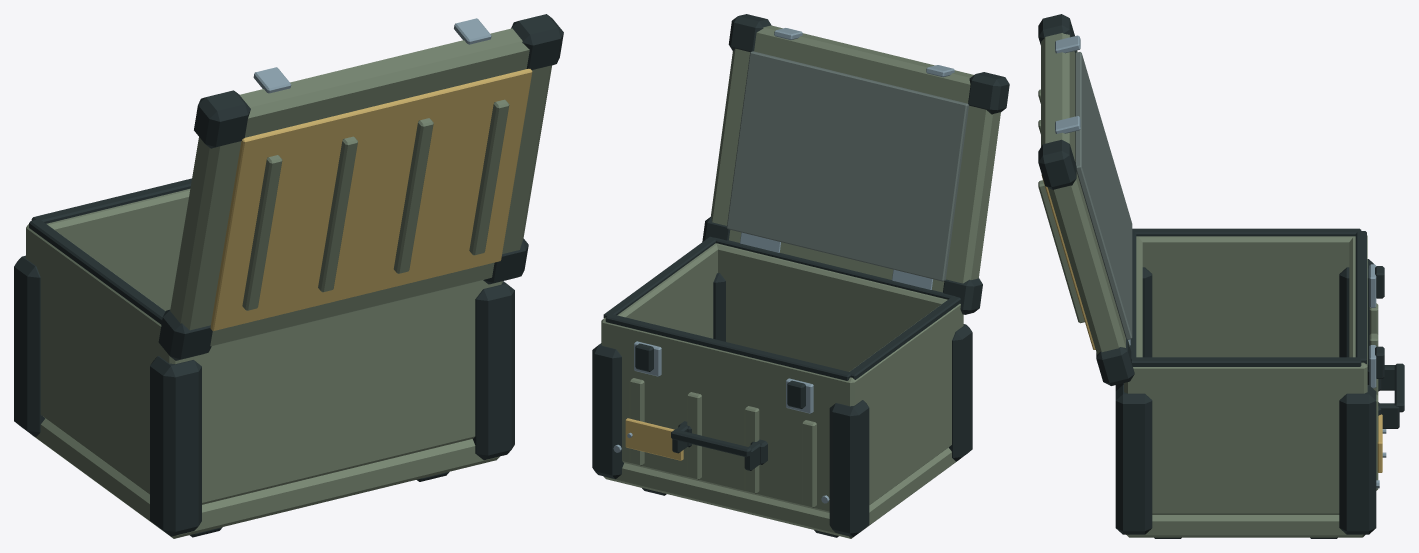
The model's file is field_supply_crate_opened.glb.
The picture shows the model from 3 angles, left to right: view 1: azimuth 30°, elevation 25°; view 2: azimuth 150°, elevation 25°; view 3: azimuth 270°, elevation 25°; orthographic projection. The views are drawn at different scales.
Visible parts, largest first — view 1: moving_lid_inset, body_back_wall, moving_lid_shell, body_left_wall, corner_guard (×3), body_floor, moving_lid_rib (×4), body_front_wall, moving_lid_corner (×4), gasket_side, gasket_front, moving_latch_hook (×2); view 2: moving_lid_inner_pad, body_front_wall, body_back_wall, moving_lid_shell, corner_guard (×4), body_left_wall, body_floor, body_right_wall, body_reinforcement (×4), moving_lid_corner (×3), gasket_side (×2), gasket_front (+3 smaller); view 3: body_right_wall, body_left_wall, corner_guard (×4), moving_lid_shell, moving_lid_inner_pad, body_floor, gasket_side (×2), moving_lid_corner (×3), gasket_front, body_front_wall, moving_lid_rib, body_back_wall (+4 smaller).
Part boxes in pixels (x1,y1,x2,y2): moving_lid_inset: (210, 68, 532, 330); body_back_wall: (162, 280, 500, 504); moving_lid_shell: (170, 28, 551, 346); body_left_wall: (26, 224, 186, 494); corner_guard (×3): (14, 255, 514, 536); body_floor: (32, 418, 499, 538); moving_lid_rib (×4): (242, 99, 509, 310); body_front_wall: (26, 189, 190, 310); moving_lid_corner (×4): (158, 14, 563, 360); gasket_side: (29, 219, 165, 324); gasket_front: (31, 178, 191, 223); moving_latch_hook (×2): (253, 18, 491, 93); moving_lid_inner_pad: (727, 51, 968, 281); body_front_wall: (602, 318, 859, 512); body_back_wall: (717, 243, 947, 371); moving_lid_shell: (711, 25, 1000, 292); corner_guard (×4): (592, 273, 972, 536); body_left_wall: (841, 301, 963, 504); body_floor: (603, 447, 959, 538); body_right_wall: (601, 243, 717, 346); body_reinforcement (×4): (629, 378, 816, 507); moving_lid_corner (×3): (728, 14, 1009, 314); gasket_side (×2): (603, 236, 960, 379); gasket_front: (605, 314, 850, 380); body_right_wall: (1124, 362, 1367, 514); body_left_wall: (1136, 235, 1367, 357); corner_guard (×4): (1115, 259, 1376, 534); moving_lid_shell: (1041, 33, 1129, 354); moving_lid_inner_pad: (1075, 52, 1132, 339); body_floor: (1126, 515, 1365, 537); gasket_side (×2): (1131, 228, 1361, 366); moving_lid_corner (×3): (1038, 14, 1134, 385); gasket_front: (1355, 231, 1366, 363); body_front_wall: (1349, 236, 1367, 393); moving_lid_rib: (1038, 180, 1084, 323); body_back_wall: (1128, 237, 1142, 393).
Size of the model in its own units: 1.19 by 1.59 by 1.29.
